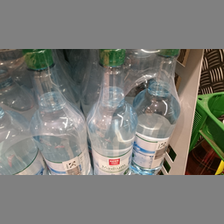water: (21, 50, 90, 174), (83, 50, 134, 175), (132, 49, 180, 174)
